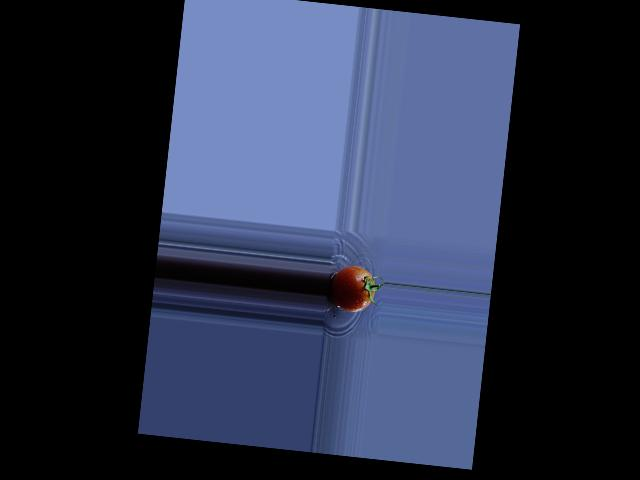tomato: (327, 264, 376, 313)
